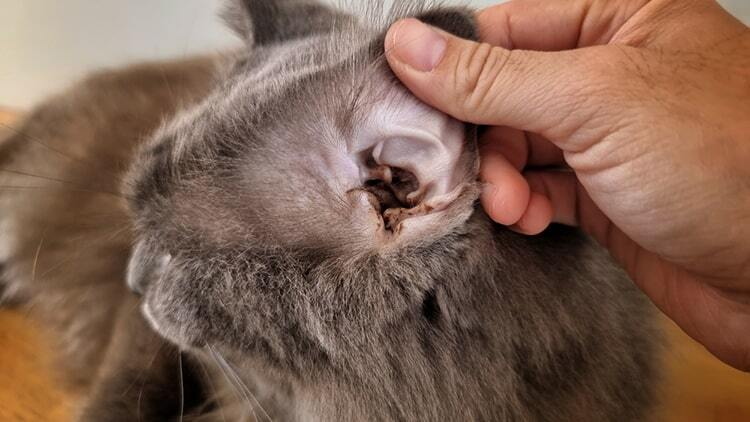tungau: (335, 129, 439, 242)
